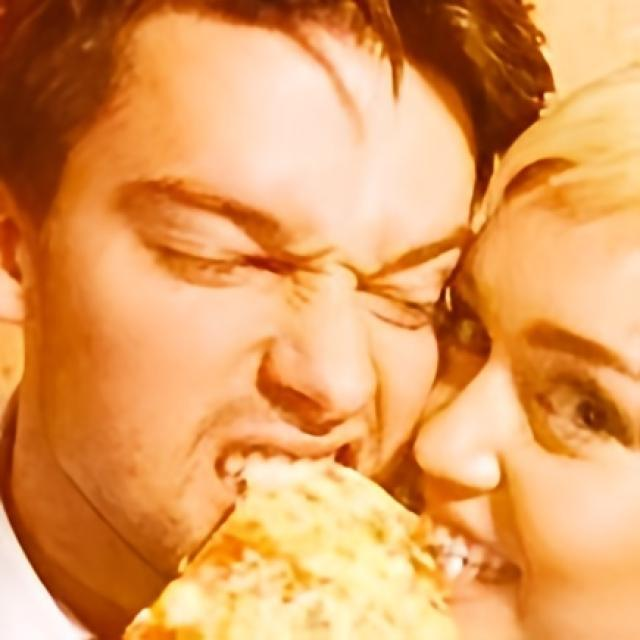anger: (34, 28, 480, 571)
happy: (410, 221, 640, 639)
